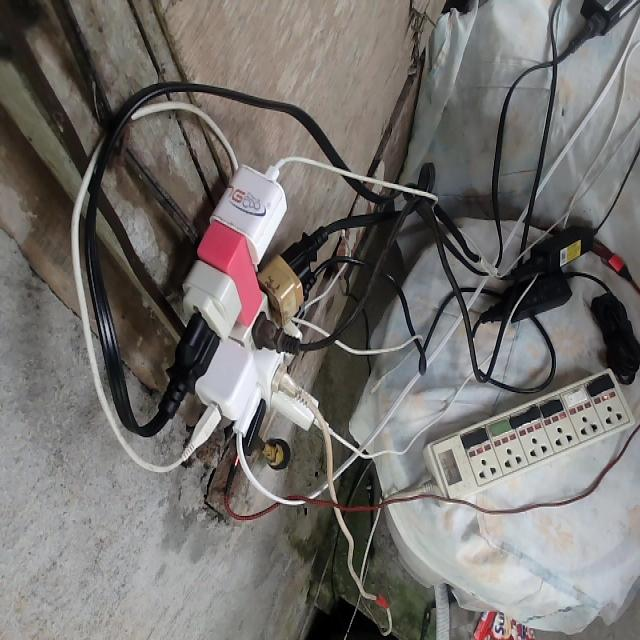-: (165, 163, 338, 433)
